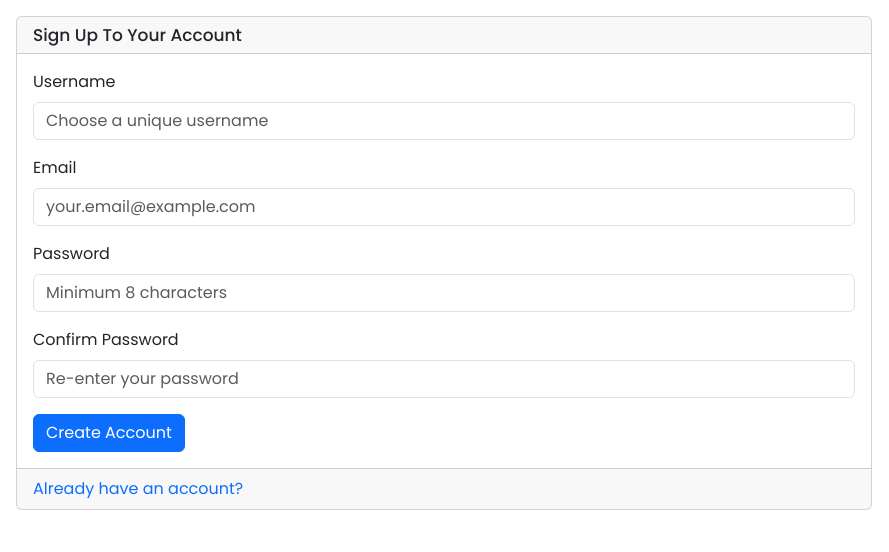
Test case: RegisterUser › 🎭 Interactions — Zod validation (onTouched) › shows error when username contains invalid characters (e.g. '!')
In the field labelled "Username": coordinates (444, 121) [33,102,855,140], type "alice!"
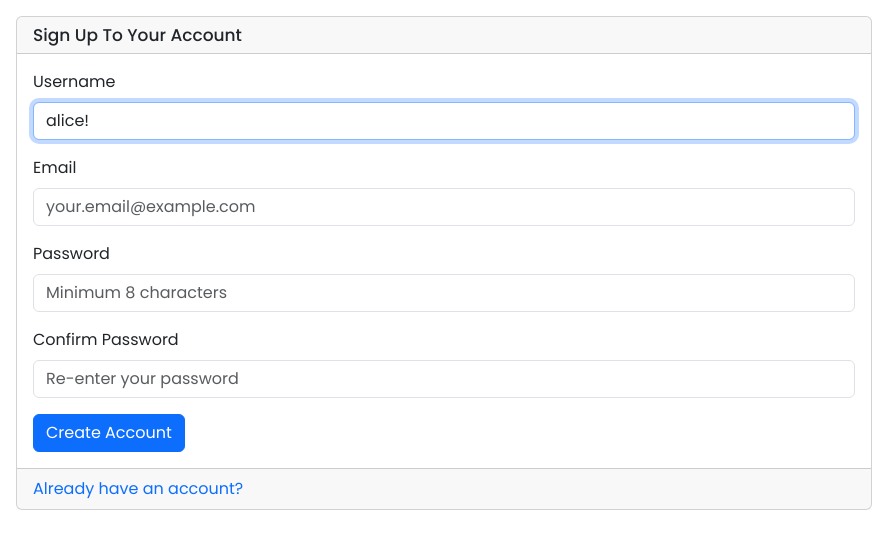
Press Tab
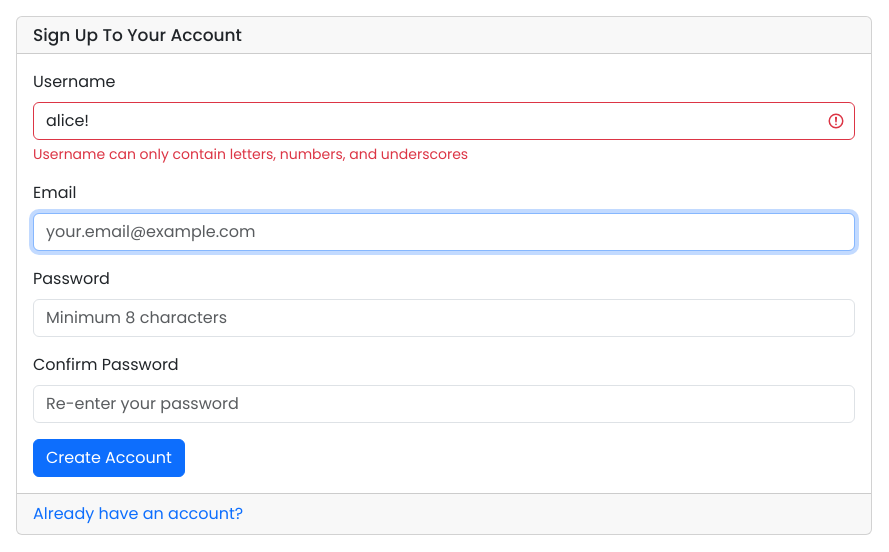
Now the text "Username can only contain letters, numbers, and underscores" is shown, box [33,144,468,164]
